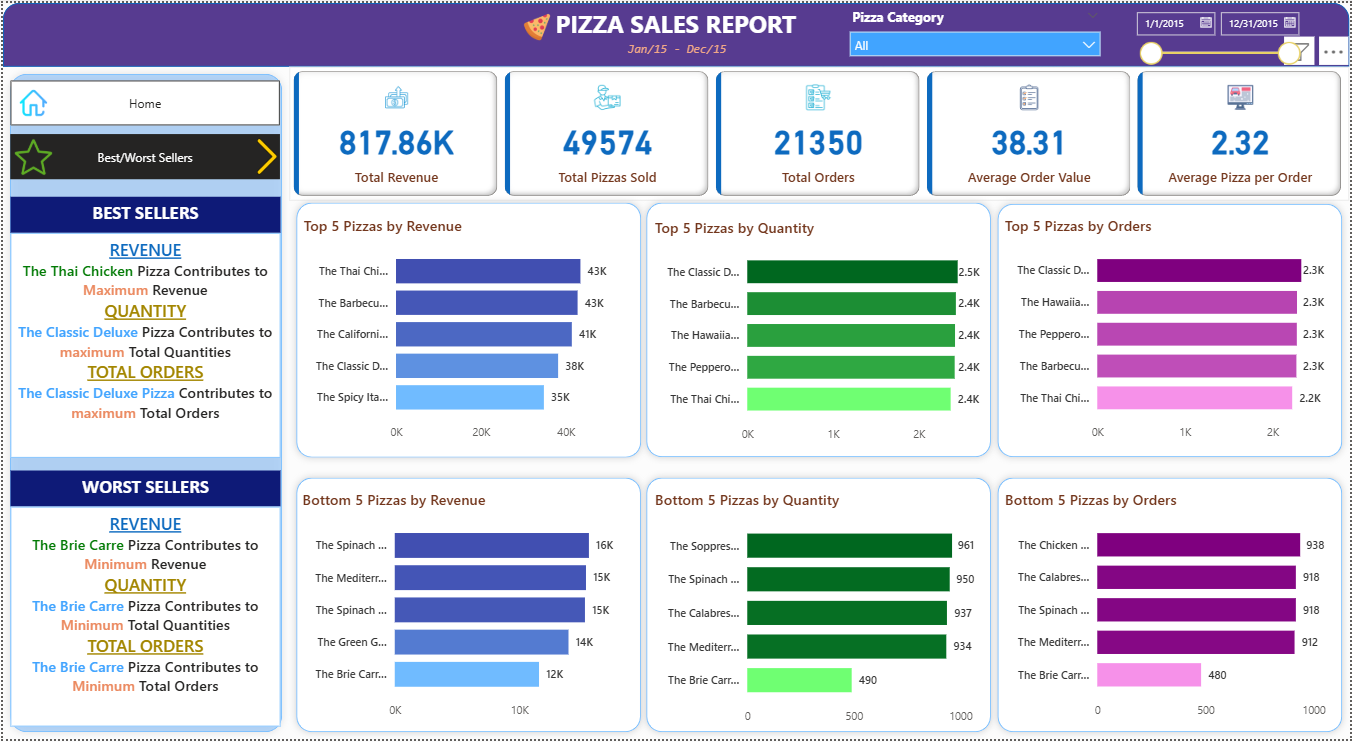

The page's visual inventory and layout, read from the dashboard file:
{"tool":"powerbi","page":{"name":"Best/Worst Sellers","canvas":[1500,820],"ordinal":1},"visuals":[{"type":"shape","box":[0,0,1499.9,71],"z":0},{"type":"shape","box":[0,71,318.9,749.3],"z":1000},{"type":"cardVisual","fields":{"Data":["pizza_sales.Total Revenue","pizza_sales.Total Pizzas Sold","pizza_sales.Total Orders","pizza_sales.Average Order Value","pizza_sales.Average Pizza per Order"]},"box":[318.9,71,1181,149],"z":2000},{"type":"textbox","box":[606.2,0,287.5,46.2],"z":3000},{"type":"textbox","box":[686.2,36.2,128.8,28.8],"z":4000},{"type":"image","box":[571.2,7.5,47.5,40],"z":5000},{"type":"shape","box":[318.8,215,400,300],"z":6000},{"type":"textbox","box":[8.4,215.9,300.8,40.4],"z":7000},{"type":"textbox","box":[8.4,256.3,300.8,250.7],"z":8000},{"type":"textbox","box":[8.4,520.9,300.8,40.4],"z":9000},{"type":"textbox","box":[8.4,561.2,300.8,245.1],"z":10000},{"type":"slicer","fields":{"Values":["pizza_sales.pizza_category"]},"box":[892.7,0,260.4,61.3],"z":11000},{"type":"slicer","fields":{"Values":["pizza_sales.order_date"]},"box":[1181,0,204.7,71],"z":12000},{"type":"shape","box":[708.9,214.5,399.7,299.4],"z":13000},{"type":"shape","box":[1100.2,215.9,399.7,298],"z":14000},{"type":"shape","box":[318.9,520.9,399.7,299.4],"z":15000},{"type":"shape","box":[708.9,520.9,399.7,299.4],"z":16000},{"type":"shape","box":[1100.2,520.9,399.7,299.4],"z":17000},{"type":"barChart","title":"Top 5 Pizzas by Revenue","fields":{"Category":["pizza_sales.pizza_name"],"Y":["pizza_sales.Total Revenue"]},"box":[330.1,236.8,378.8,260.4],"z":18000},{"type":"barChart","title":"Bottom 5 Pizzas by Revenue","fields":{"Category":["pizza_sales.pizza_name"],"Y":["pizza_sales.Total Revenue"]},"box":[328.7,541.7,378.8,264.6],"z":19000},{"type":"barChart","title":"Top 5 Pizzas by Quantity","fields":{"Category":["pizza_sales.pizza_name"],"Y":["pizza_sales.Total Pizzas Sold"]},"box":[721.4,238.1,378.8,260.4],"z":20000},{"type":"barChart","title":"Bottom 5 Pizzas by Quantity","fields":{"Category":["pizza_sales.pizza_name"],"Y":["pizza_sales.Total Pizzas Sold"]},"box":[721.4,541.7,378.8,271.6],"z":21000},{"type":"barChart","title":"Top 5 Pizzas by Orders","fields":{"Category":["pizza_sales.pizza_name"],"Y":["pizza_sales.Total Orders"]},"box":[1111.4,236.8,378.8,260.4],"z":22000},{"type":"barChart","title":"Bottom 5 Pizzas by Orders","fields":{"Category":["pizza_sales.pizza_name"],"Y":["pizza_sales.Total Orders"]},"box":[1111.4,541.7,378.8,264.6],"z":23000},{"type":"pageNavigator","box":[8.4,146.2,300.8,50.1],"z":23001},{"type":"pageNavigator","box":[8.4,86.3,300.8,50.1],"z":23002},{"type":"image","box":[259,146.2,69.6,50.1],"z":23003},{"type":"image","box":[8.4,142.1,51.5,59.9],"z":23004},{"type":"image","box":[13.9,90.5,40.4,41.8],"z":23005}]}

Visuals, with their boxes in screenshot pixels (x1, y1, x2, y2), scaled from the page's 1500x820 canvas onto the 1352x742 screenshot:
shape: select_region(0, 0, 1351, 64)
shape: select_region(0, 64, 287, 741)
cardVisual - pizza_sales.Total Revenue x pizza_sales.Total Pizzas Sold: select_region(287, 64, 1351, 199)
textbox: select_region(546, 0, 806, 42)
textbox: select_region(618, 33, 735, 59)
image: select_region(515, 7, 558, 43)
shape: select_region(287, 195, 648, 466)
textbox: select_region(8, 195, 279, 232)
textbox: select_region(8, 232, 279, 459)
textbox: select_region(8, 471, 279, 508)
textbox: select_region(8, 508, 279, 730)
slicer - pizza_sales.pizza_category: select_region(805, 0, 1039, 55)
slicer - pizza_sales.order_date: select_region(1064, 0, 1249, 64)
shape: select_region(639, 194, 999, 465)
shape: select_region(992, 195, 1351, 465)
shape: select_region(287, 471, 648, 741)
shape: select_region(639, 471, 999, 741)
shape: select_region(992, 471, 1351, 741)
"Top 5 Pizzas by Revenue" barChart: select_region(298, 214, 639, 450)
"Bottom 5 Pizzas by Revenue" barChart: select_region(296, 490, 638, 730)
"Top 5 Pizzas by Quantity" barChart: select_region(650, 215, 992, 451)
"Bottom 5 Pizzas by Quantity" barChart: select_region(650, 490, 992, 736)
"Top 5 Pizzas by Orders" barChart: select_region(1002, 214, 1343, 450)
"Bottom 5 Pizzas by Orders" barChart: select_region(1002, 490, 1343, 730)
pageNavigator: select_region(8, 132, 279, 178)
pageNavigator: select_region(8, 78, 279, 123)
image: select_region(233, 132, 296, 178)
image: select_region(8, 129, 54, 183)
image: select_region(13, 82, 49, 120)
